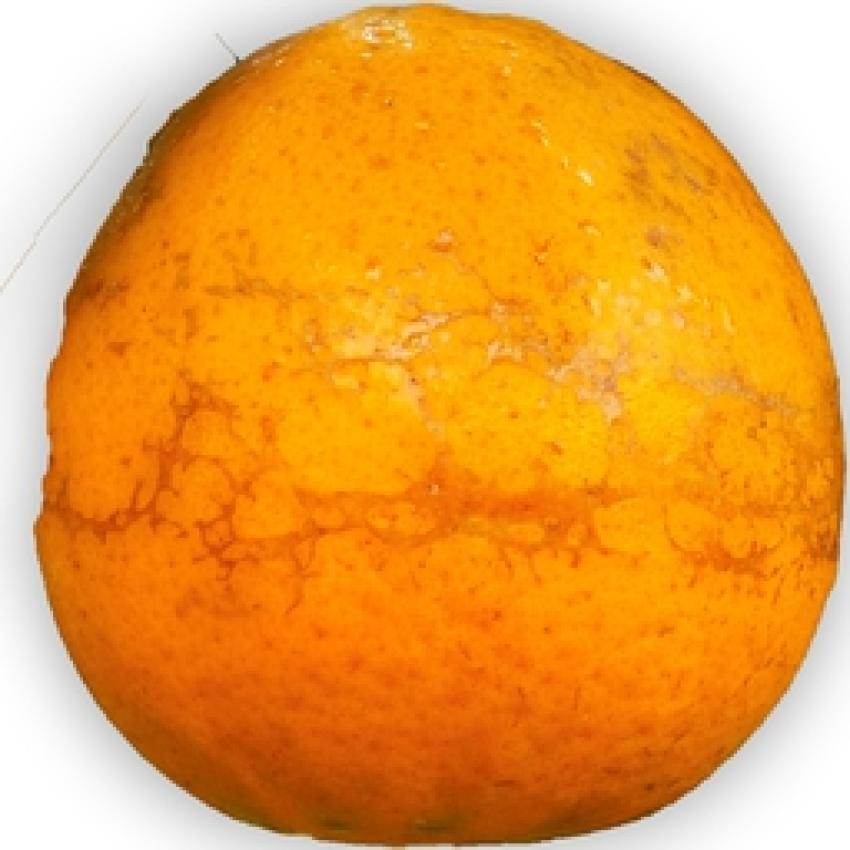Mal estado: (12, 0, 847, 847)
